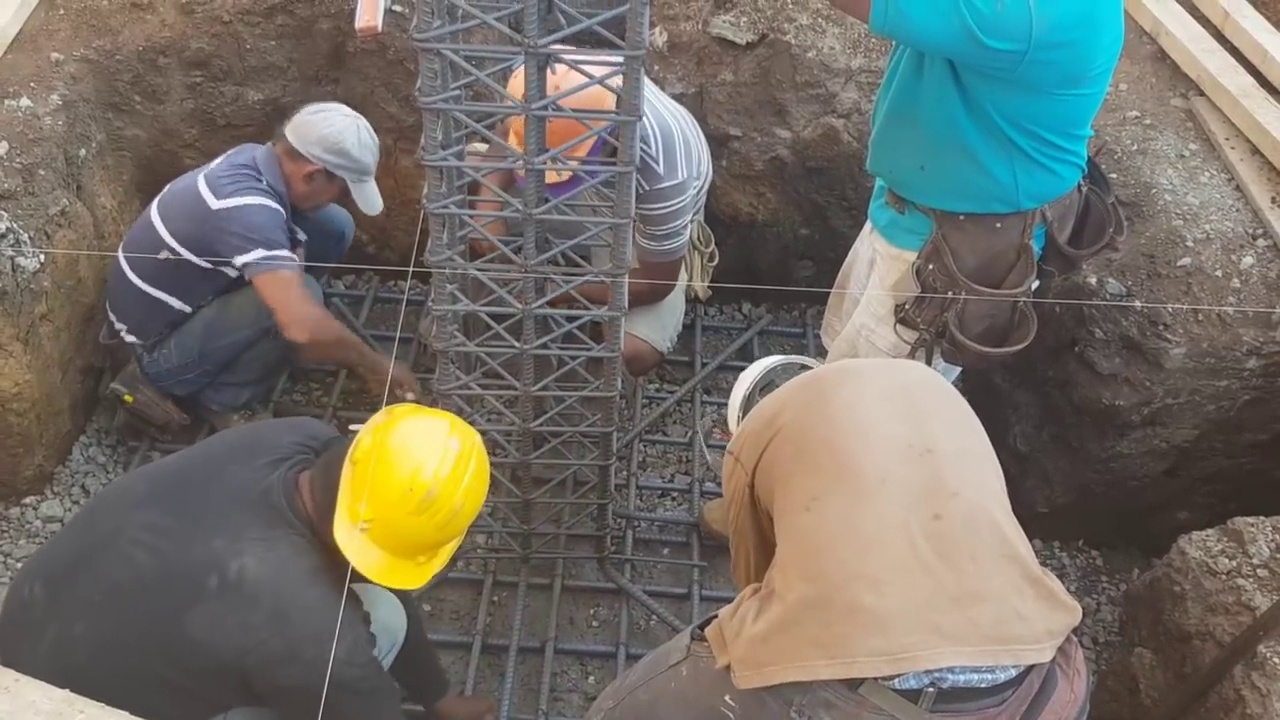helmet: (339, 406, 492, 598), (496, 46, 596, 173), (731, 361, 816, 458)
helmet-off: (270, 97, 382, 217)
helmet-on: (287, 391, 483, 596), (500, 46, 631, 209)
person: (596, 344, 1090, 720), (0, 401, 501, 720), (814, 1, 1137, 409), (108, 87, 440, 432), (492, 13, 707, 409)
